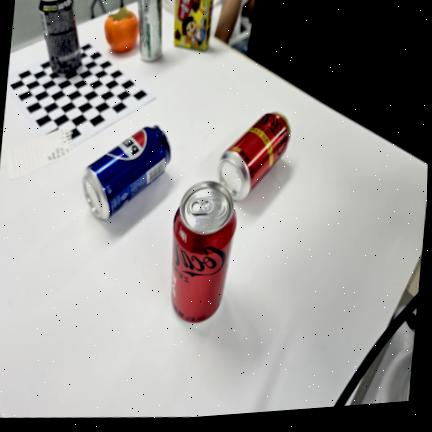can_coke_decaf: (215, 111, 291, 201)
can_coke_zero: (170, 178, 237, 323)
can_pepsi: (81, 123, 171, 220)
